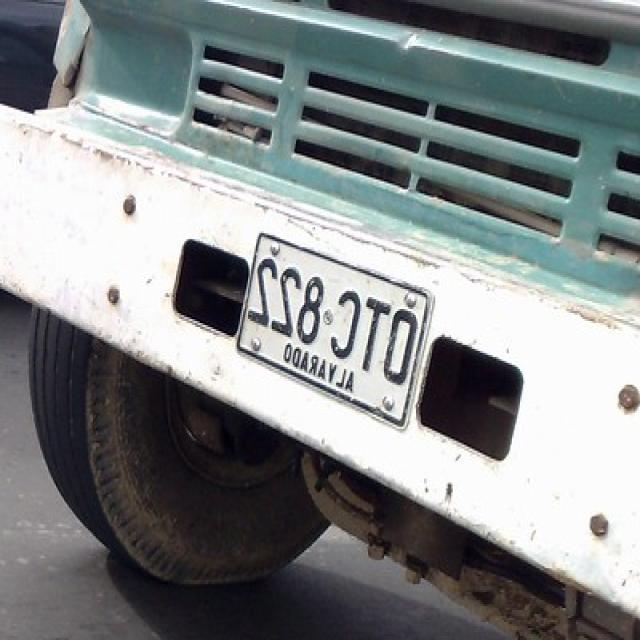placas: (246, 248, 423, 391)
